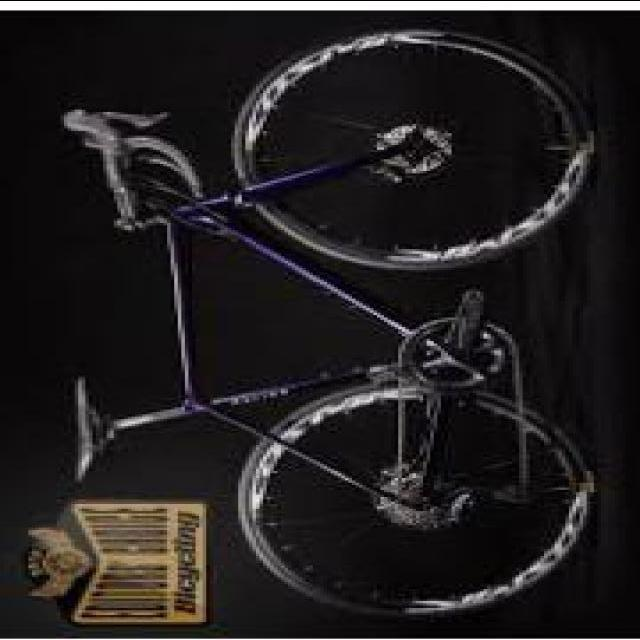bicycle: (33, 31, 573, 624)
